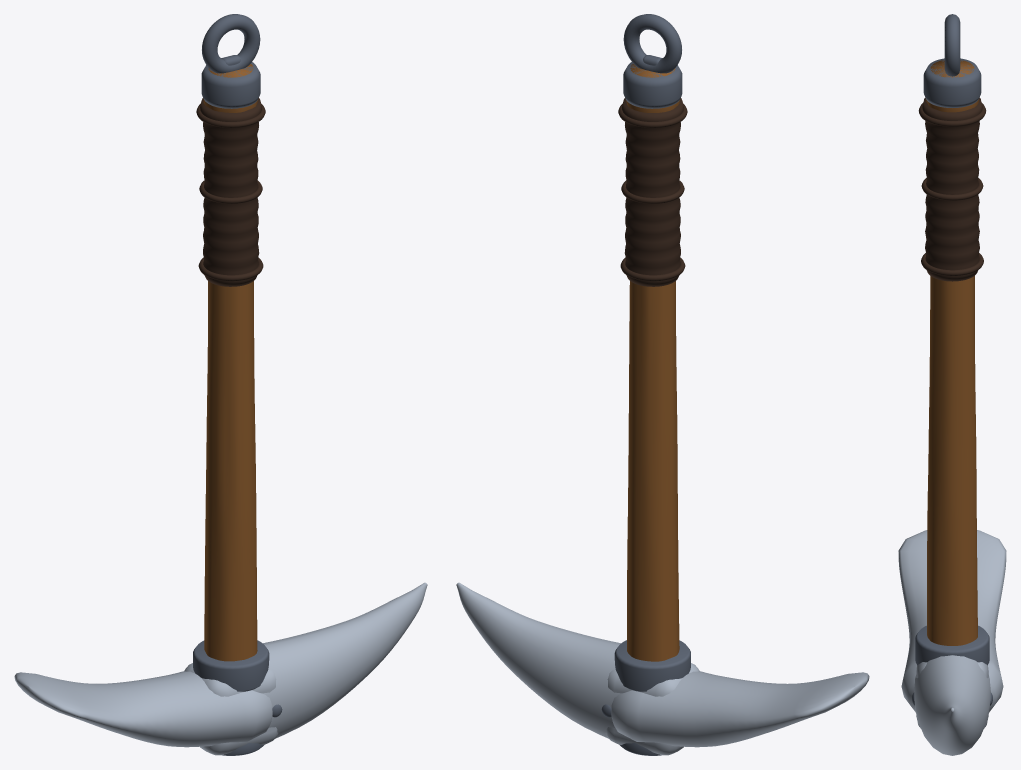
Rendered from Pickaxe.glb.
3 views of the same model, side by side, from view 1: azimuth 30°, elevation 25°; view 2: azimuth 150°, elevation 25°; view 3: azimuth 270°, elevation 25° (orthographic). The views are drawn at different scales.
Visible parts, largest first — view 1: Head__Metal__A9B3C1, Handle__Wood__8B5A2B, Grip__Fabric__3B2A20, Fittings__Metal__5A6372; view 2: Head__Metal__A9B3C1, Handle__Wood__8B5A2B, Grip__Fabric__3B2A20, Fittings__Metal__5A6372; view 3: Handle__Wood__8B5A2B, Head__Metal__A9B3C1, Grip__Fabric__3B2A20, Fittings__Metal__5A6372.
Part boxes in pixels (x1,y1,x2,y2): Head__Metal__A9B3C1: [14, 582, 427, 755]; Handle__Wood__8B5A2B: [203, 64, 258, 661]; Grip__Fabric__3B2A20: [196, 98, 265, 286]; Fittings__Metal__5A6372: [193, 14, 282, 755]; Head__Metal__A9B3C1: [456, 582, 869, 755]; Handle__Wood__8B5A2B: [626, 64, 679, 661]; Grip__Fabric__3B2A20: [618, 98, 687, 286]; Fittings__Metal__5A6372: [601, 14, 690, 755]; Handle__Wood__8B5A2B: [926, 60, 978, 645]; Head__Metal__A9B3C1: [898, 530, 1006, 755]; Grip__Fabric__3B2A20: [918, 97, 986, 281]; Fittings__Metal__5A6372: [912, 14, 992, 726].
Bounding box in the file's own units: 18.78 × 32.97 × 4.5.
